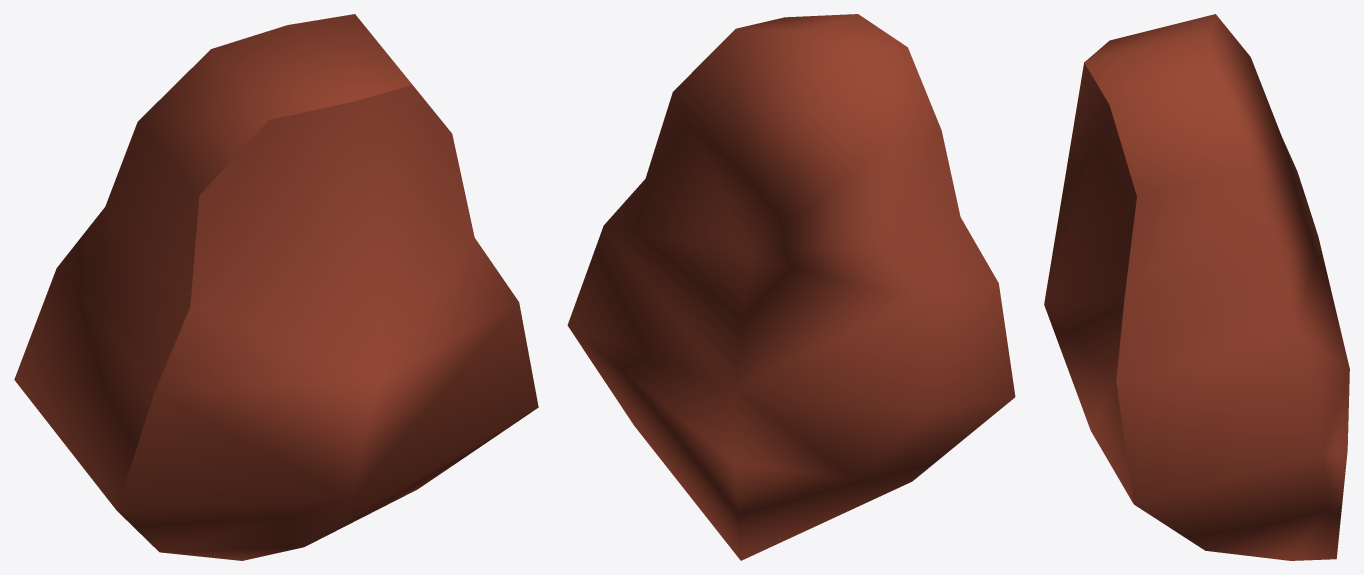
File: Beard_Brown_2.fbx
The picture shows the model from 3 angles, left to right: view 1: azimuth 30°, elevation 25°; view 2: azimuth 150°, elevation 25°; view 3: azimuth 270°, elevation 25°; orthographic projection. The views are drawn at different scales.
Parts seen in each view (by area): view 1: Beard_Brown_2; view 2: Beard_Brown_2; view 3: Beard_Brown_2.
Part boxes in pixels (x1,y1,x2,y2): Beard_Brown_2: [14, 14, 538, 560]; Beard_Brown_2: [567, 14, 1015, 560]; Beard_Brown_2: [1044, 14, 1349, 560].
Size of the model in its own units: 9.51 by 12.25 by 6.48.
